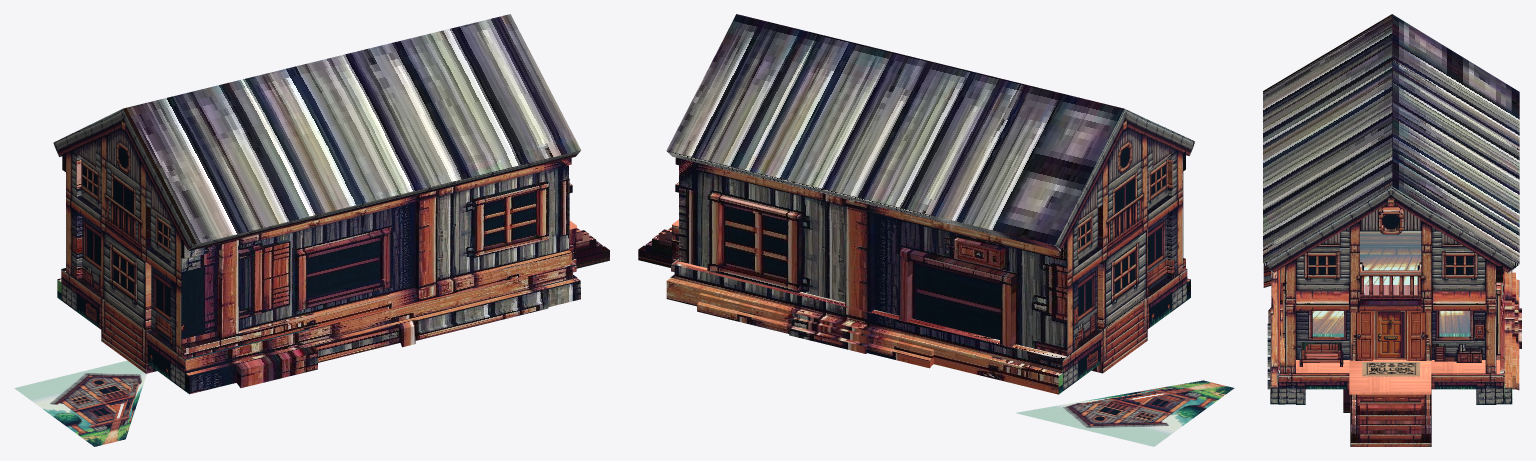
File: clubhousOUTSIDE.glb
3 renders of one model, left to right at view 1: azimuth 30°, elevation 25°; view 2: azimuth 150°, elevation 25°; view 3: azimuth 270°, elevation 25°, orthographic. The views are drawn at different scales.
Parts seen in each view (by area): view 1: OIG2.qKVq.SnixfkrPy; view 2: OIG2.qKVq.SnixfkrPy; view 3: OIG2.qKVq.SnixfkrPy, Cube.001, Plane.002, 3877aa4a-d82d-4323-8a24-df2bb02cdeb7, OIG3.hJJqHTGNiAuA4kz5N, 917ZJ26MrIL._AC_UF894,1000_QL80_, Plane, Plane.001, 3877aa4a-d82d-4323-8a24-df2bb02cdeb7.001, 3877aa4a-d82d-4323-8a24-df2bb02cdeb7.002.
Part boxes in pixels (left/top/right/bottom): OIG2.qKVq.SnixfkrPy: left=14, top=14, right=609, bottom=446; OIG2.qKVq.SnixfkrPy: left=638, top=14, right=1234, bottom=446; OIG2.qKVq.SnixfkrPy: left=1263, top=14, right=1521, bottom=446; Cube.001: left=1312, top=231, right=1470, bottom=333; Plane.002: left=1360, top=231, right=1420, bottom=284; 3877aa4a-d82d-4323-8a24-df2bb02cdeb7: left=1349, top=359, right=1431, bottom=394; OIG3.hJJqHTGNiAuA4kz5N: left=1377, top=311, right=1404, bottom=358; 917ZJ26MrIL._AC_UF894,1000_QL80_: left=1362, top=362, right=1419, bottom=376; Plane: left=1312, top=311, right=1343, bottom=336; Plane.001: left=1439, top=311, right=1470, bottom=336; 3877aa4a-d82d-4323-8a24-df2bb02cdeb7.001: left=1431, top=360, right=1499, bottom=373; 3877aa4a-d82d-4323-8a24-df2bb02cdeb7.002: left=1296, top=360, right=1349, bottom=373.
Bounding box in the file's own units: 7.66 × 4.01 × 3.53.
Materials: 9 (6 with a texture image).
